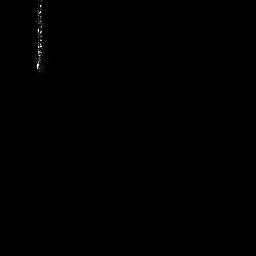ship: (34, 1, 47, 72)
